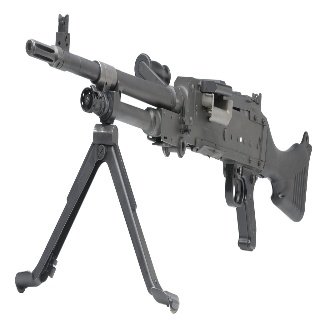rifle: (15, 12, 312, 312)
